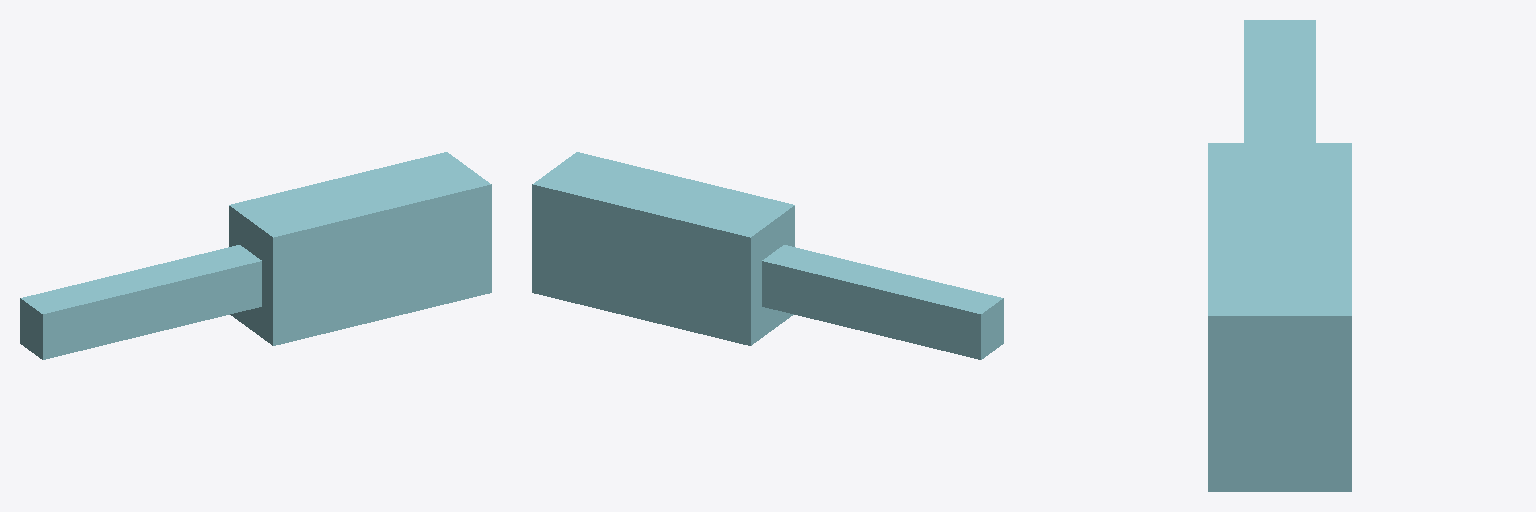
The robot description file, URDF, robot "cuboid_brush_v8009":
<?xml version="1.0"?>
<robot name="cuboid_brush_v8009">

  <link name="cuboid_brush_v8009">
    <!-- Handle -->
    <visual>
      <origin xyz="0 0 0" rpy="0 0 0"/>
      <geometry>
        <box size="0.09837356614515949 0.017274485590849983 0.019597268011021303"/>
      </geometry>
      <material name="material">
        <color rgba="0.639 0.847 0.882 1.0"/>
      </material>
    </visual>
    <collision>
      <origin xyz="0 0 0" rpy="0 0 0"/>
      <geometry>
        <box size="0.09837356614515949 0.017274485590849983 0.019597268011021303"/>
      </geometry>
    </collision>

    <!-- Head -->
    <visual>
      <origin xyz="0.0981008255906382 0 0" rpy="0 0 0"/>
      <geometry>
        <box size="0.0978280850361169 0.03456505750926841 0.04653678710274334"/>
      </geometry>
      <material name="material">
        <color rgba="0.639 0.847 0.882 1.0"/>
      </material>
    </visual>
    <collision>
      <origin xyz="0.0981008255906382 0 0" rpy="0 0 0"/>
      <geometry>
        <box size="0.0978280850361169 0.03456505750926841 0.04653678710274334"/>
      </geometry>
    </collision>

    <inertial>
      <density value="400.0"/>
    </inertial>
  </link>

</robot>

--- What the picture shows (computed from the rendered views, not written in the file) ---
The picture shows the robot from 3 angles, left to right: view 1: azimuth 30°, elevation 25°; view 2: azimuth 150°, elevation 25°; view 3: azimuth 270°, elevation 25°; orthographic projection.
Model cuboid_brush_v8009 with 1 links and 0 joints (none), rooted at cuboid_brush_v8009, posed every joint at zero.
Visible links, largest first — view 1: cuboid_brush_v8009; view 2: cuboid_brush_v8009; view 3: cuboid_brush_v8009.
Link boxes in pixels (x1,y1,x2,y2): cuboid_brush_v8009: (20,152,491,359); cuboid_brush_v8009: (532,152,1003,359); cuboid_brush_v8009: (1208,20,1351,491).
Size in the robot's own frame: 0.1962 by 0.0346 by 0.0465 metres.
Geometry: primitives only (box / cylinder / sphere), no mesh files.
